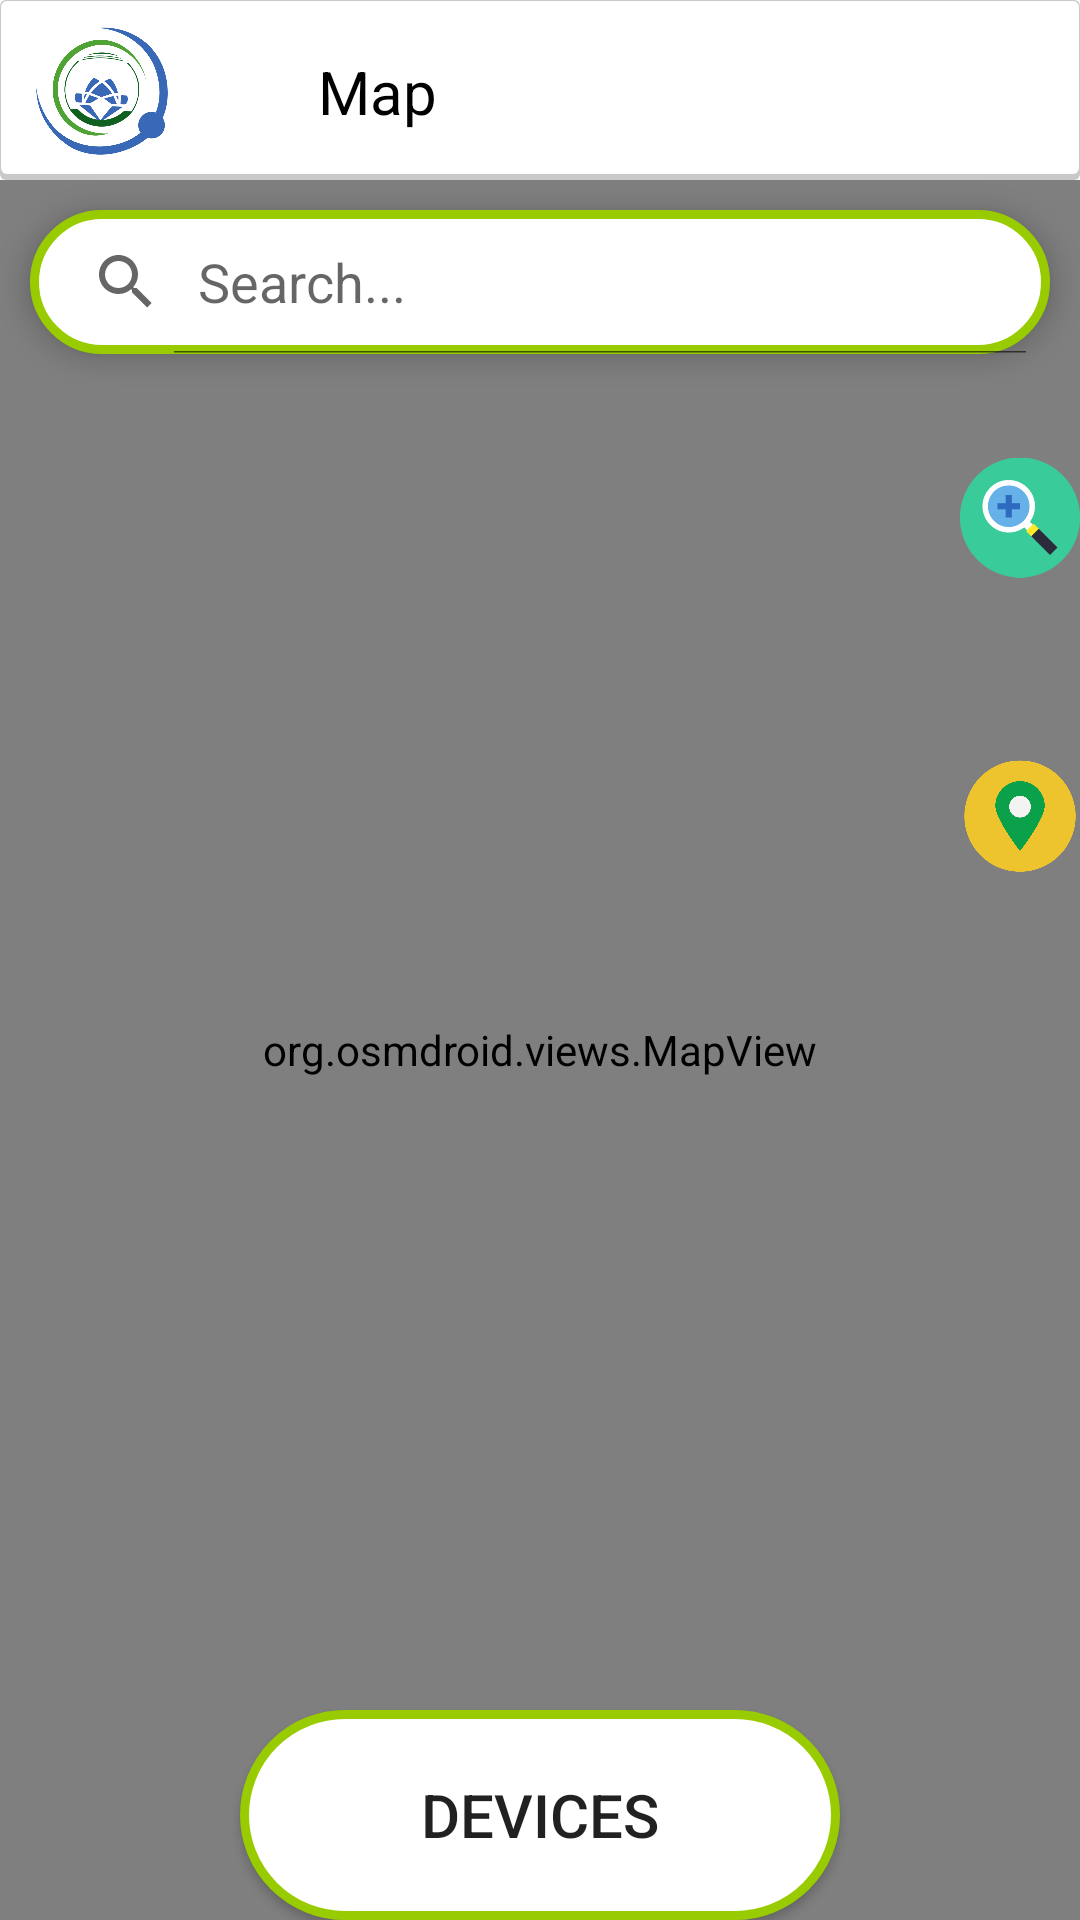

Where icons sit on this 1080 x 1920 app screen, as (x1, y1, x2, y2):
locationicon: (964, 760, 1076, 872)
zoominicon: (960, 458, 1080, 578)
